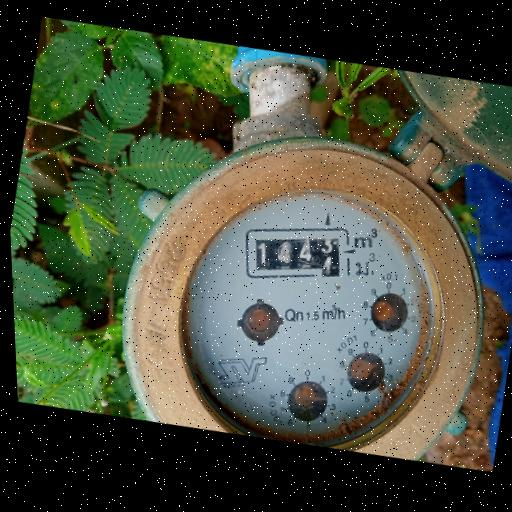1: (249, 237, 277, 273)
3: (311, 234, 345, 282)
4: (291, 234, 322, 273), (271, 235, 300, 273)
border_water_meter_number: (235, 206, 366, 299)
